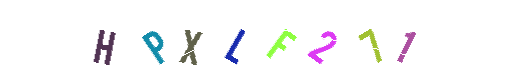1: (283, 0, 363, 80)
2: (266, 0, 346, 80)
7: (282, 0, 362, 80)
F: (221, 0, 301, 80)
H: (105, 0, 185, 80)
L: (194, 0, 274, 80)
P: (114, 0, 194, 80)
X: (165, 0, 245, 80)
